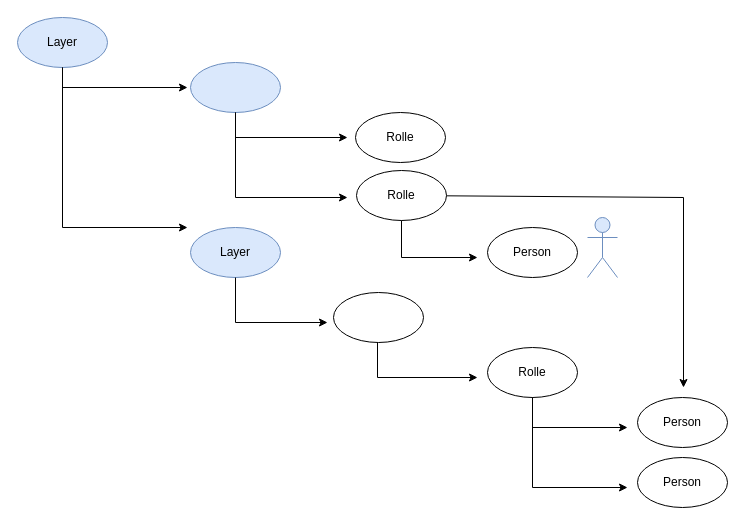
Image size: 745x525. Some labels were removed from this diagram. The shapes that lost their labels are listed below. From the top down, each one's box as (x1, y1, x2, y2) in pixels, then its label:
(190, 62, 280, 112): Tim-Gruppe
(586, 216, 618, 278): Tim
(332, 292, 424, 342): Group
